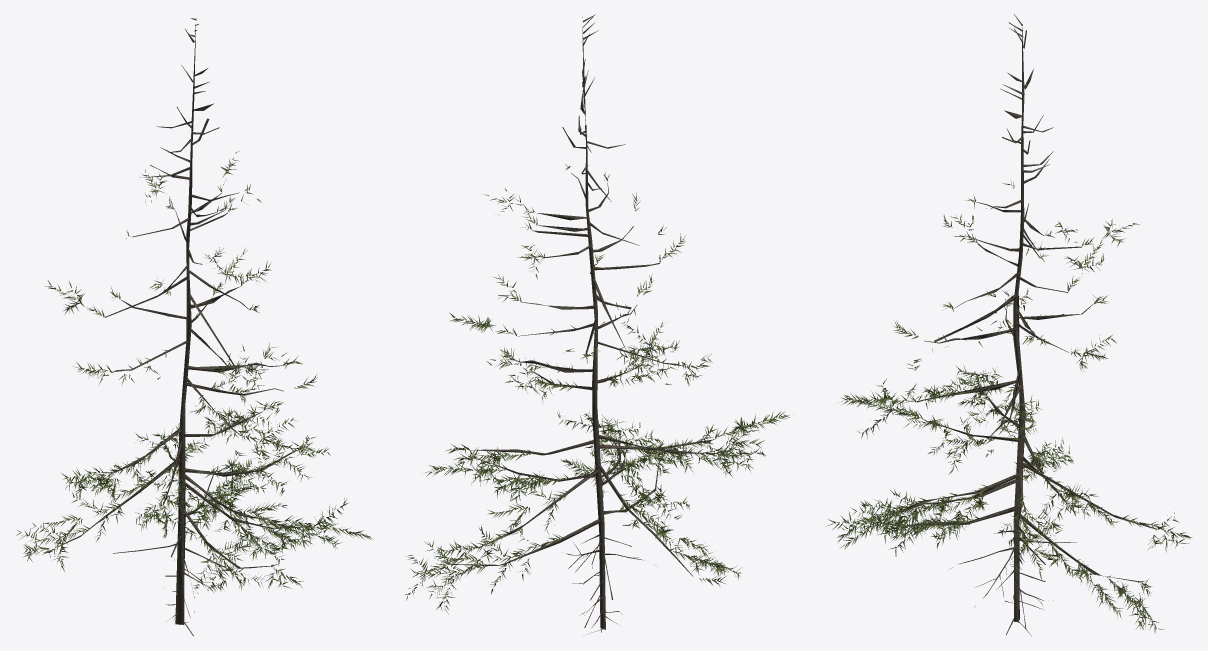
File: fir_medium_b_lod1.gltf
3 renders of one model, left to right at view 1: azimuth 30°, elevation 25°; view 2: azimuth 150°, elevation 25°; view 3: azimuth 270°, elevation 25°, orthographic.
Parts seen in each view (by area): view 1: fir_sapling_medium_b_LOD0.002, fir_sapling_medium_b_LOD0.001, fir_sapling_medium_b_LOD0; view 2: fir_sapling_medium_b_LOD0.002, fir_sapling_medium_b_LOD0.001, fir_sapling_medium_b_LOD0; view 3: fir_sapling_medium_b_LOD0.002, fir_sapling_medium_b_LOD0.001, fir_sapling_medium_b_LOD0.
Part boxes in pixels (x1,y1,x2,y2): fir_sapling_medium_b_LOD0.002: (16, 151, 373, 592); fir_sapling_medium_b_LOD0.001: (56, 18, 296, 624); fir_sapling_medium_b_LOD0: (113, 531, 268, 636); fir_sapling_medium_b_LOD0.002: (405, 164, 793, 614); fir_sapling_medium_b_LOD0.001: (450, 14, 716, 629); fir_sapling_medium_b_LOD0: (565, 534, 657, 633); fir_sapling_medium_b_LOD0.002: (825, 180, 1191, 632); fir_sapling_medium_b_LOD0.001: (873, 14, 1157, 622); fir_sapling_medium_b_LOD0: (949, 529, 1076, 636).
Size of the model in its own units: 3.8 by 7.1 by 3.84.
Materials: 3 (3 with a texture image).
